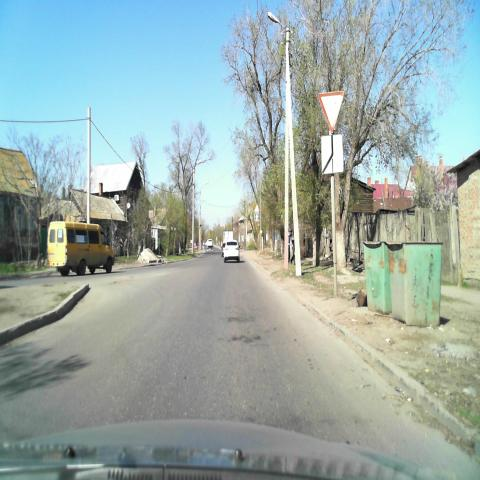8_13: (321, 134, 345, 175)
